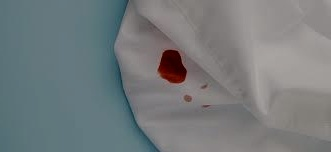blood: (156, 49, 187, 84)
